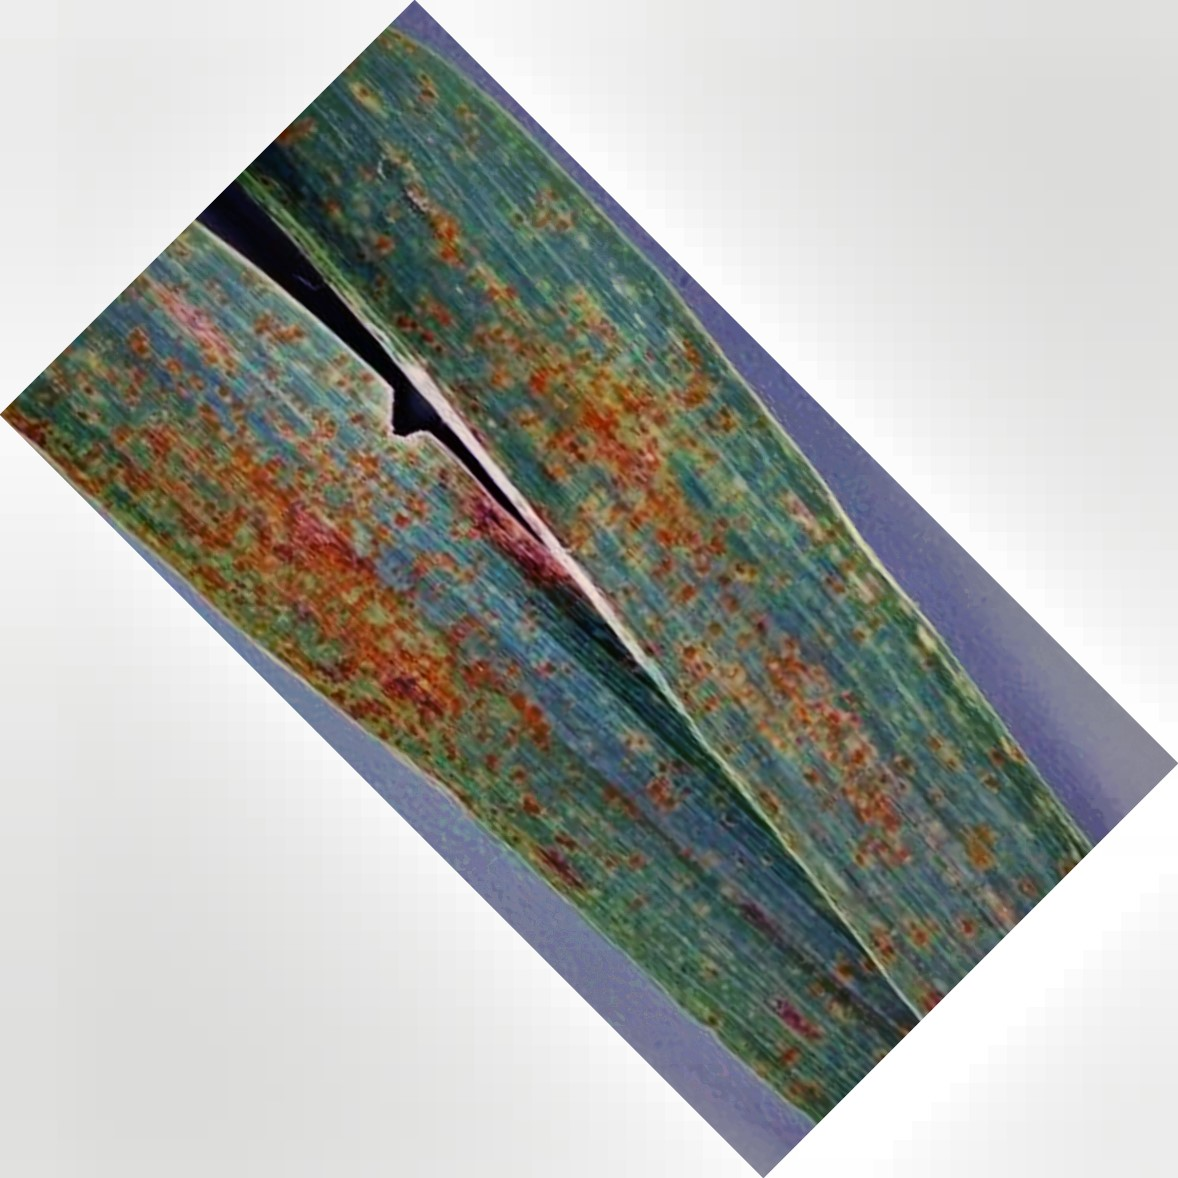Leaf Rust: (110, 289, 724, 744)
